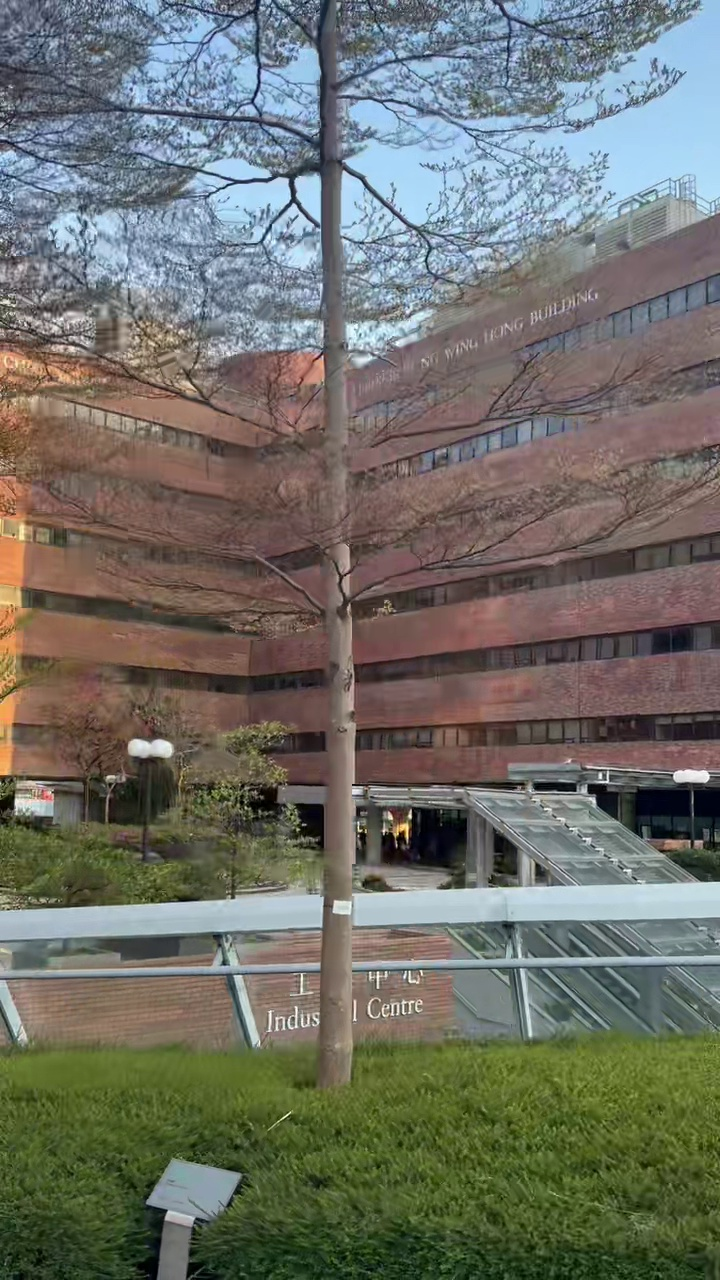Terminalia mantaly: (0, 0, 698, 1083)
